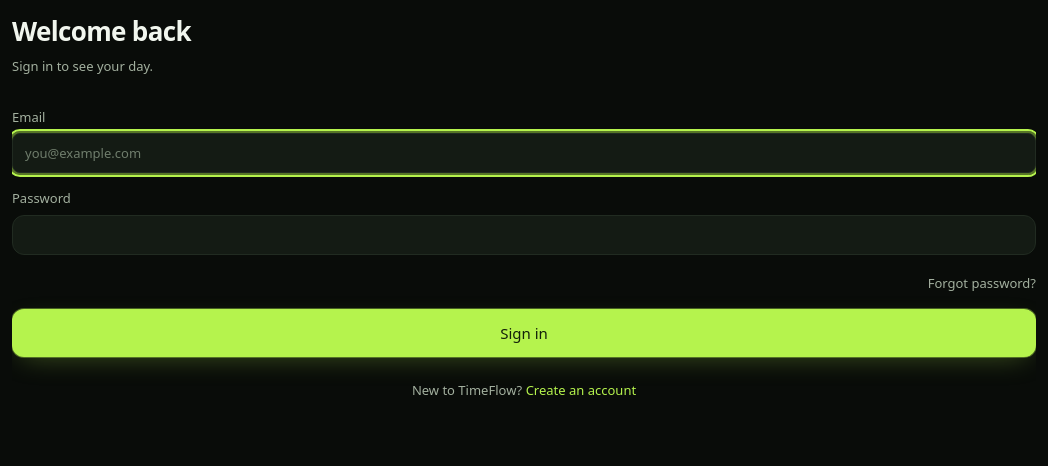
Test: Login form › shows the server message on bad credentials and keeps the user on the form
Type "ana@example.com" into the field labelled "Email" at (524, 153), box [12, 133, 1036, 173]
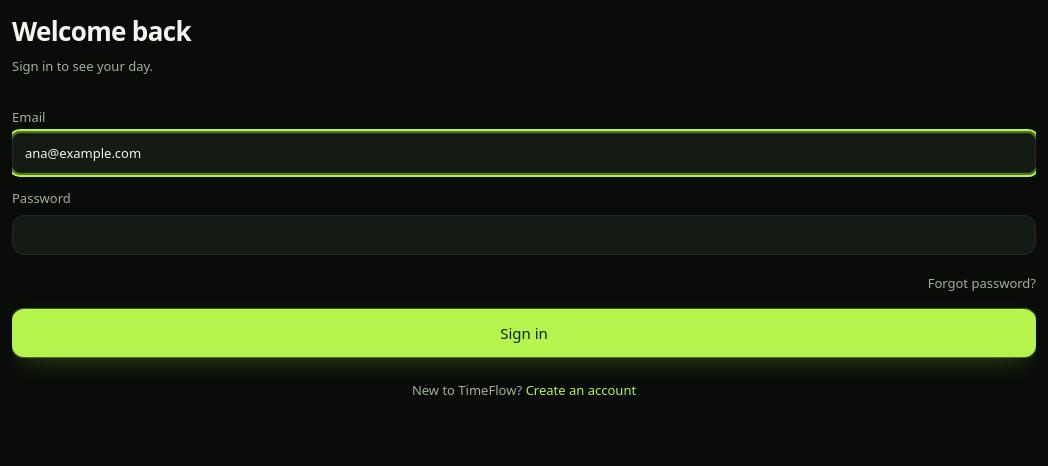
Type "wrong-password" into the password field labelled "Password" at (524, 235), box [12, 215, 1036, 255]
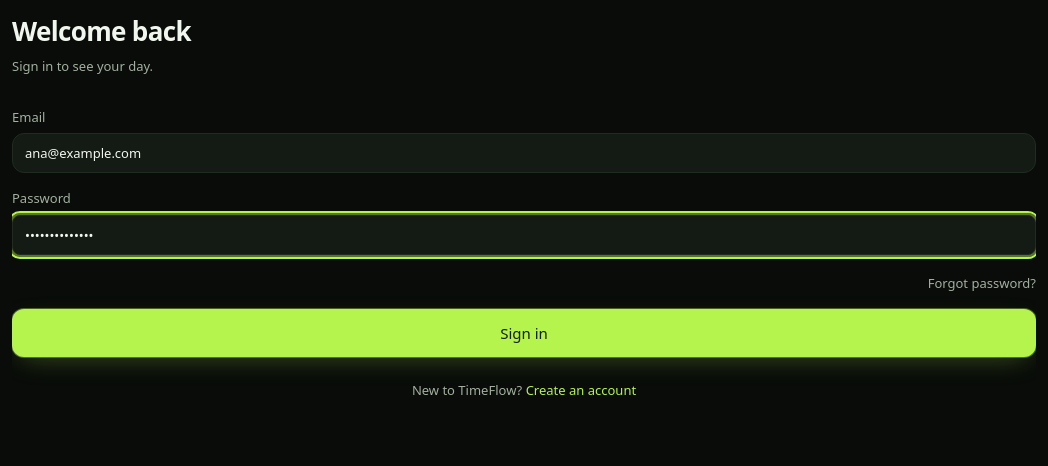
Click the button "Sign in" at (524, 333), box [12, 309, 1036, 357]
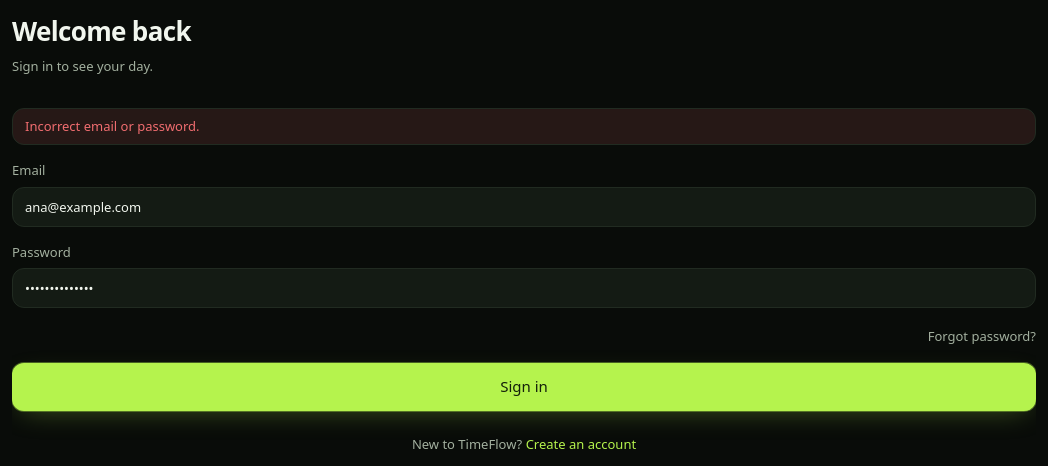
Check: the text "Incorrect email or password." is shown, box [12, 108, 1036, 145]
